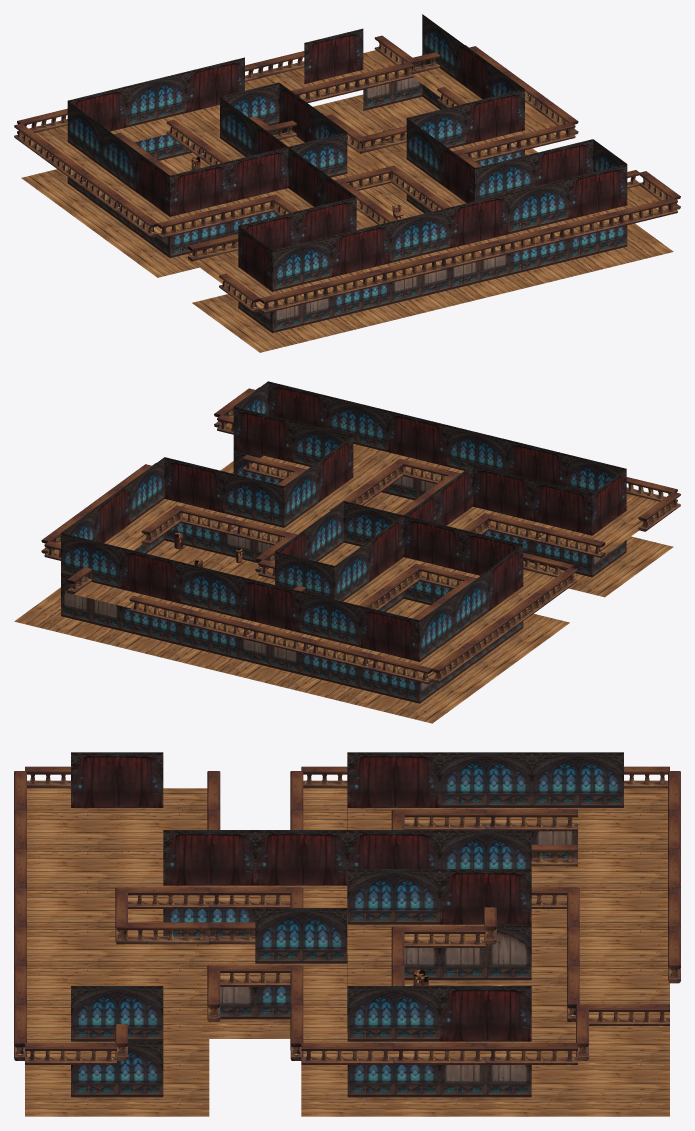
Rendered from inn_map_procedural_individual.glb.
3 views of the same model, one above another, from view 1: azimuth 30°, elevation 25°; view 2: azimuth 150°, elevation 25°; view 3: azimuth 270°, elevation 25° (orthographic). The views are drawn at different scales.
Visible parts, largest first — view 1: Dungeon; view 2: Dungeon; view 3: Dungeon.
Boxes of the visible parts, x1=… form: Dungeon: x1=14, y1=14, x2=680, y2=352; Dungeon: x1=14, y1=381, x2=680, y2=723; Dungeon: x1=14, y1=752, x2=680, y2=1116.
Bounding box in the file's own units: 86.86 × 16.16 × 86.86.
7 materials, 7 textured.
